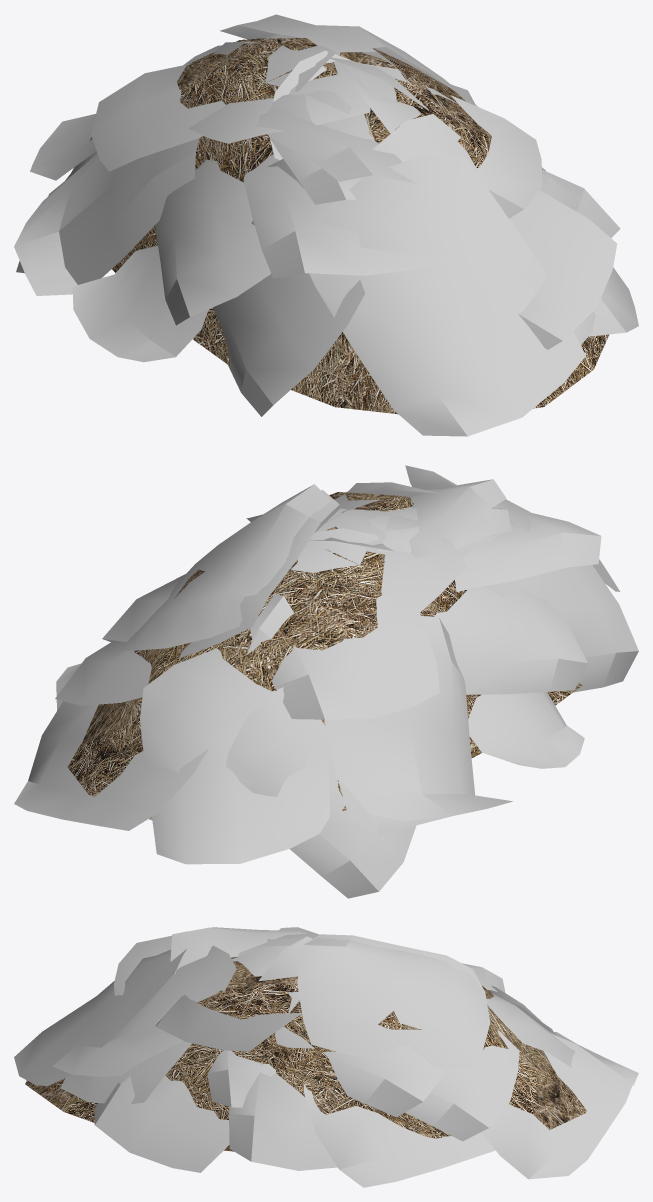
File: StrawBlast.fbx
The picture shows the model from 3 angles, top to bottom: view 1: azimuth 30°, elevation 25°; view 2: azimuth 150°, elevation 25°; view 3: azimuth 270°, elevation 25°; orthographic projection. The views are drawn at different scales.
Parts seen in each view (by area): view 1: Straw_Blast_LOD0; view 2: Straw_Blast_LOD0; view 3: Straw_Blast_LOD0.
Part boxes in pixels (x1,y1,x2,y2): Straw_Blast_LOD0: [14, 14, 638, 436]; Straw_Blast_LOD0: [14, 465, 638, 898]; Straw_Blast_LOD0: [14, 927, 638, 1187].
Size of what is drawn, in the model's own units: 5.15 by 2.76 by 7.53.
